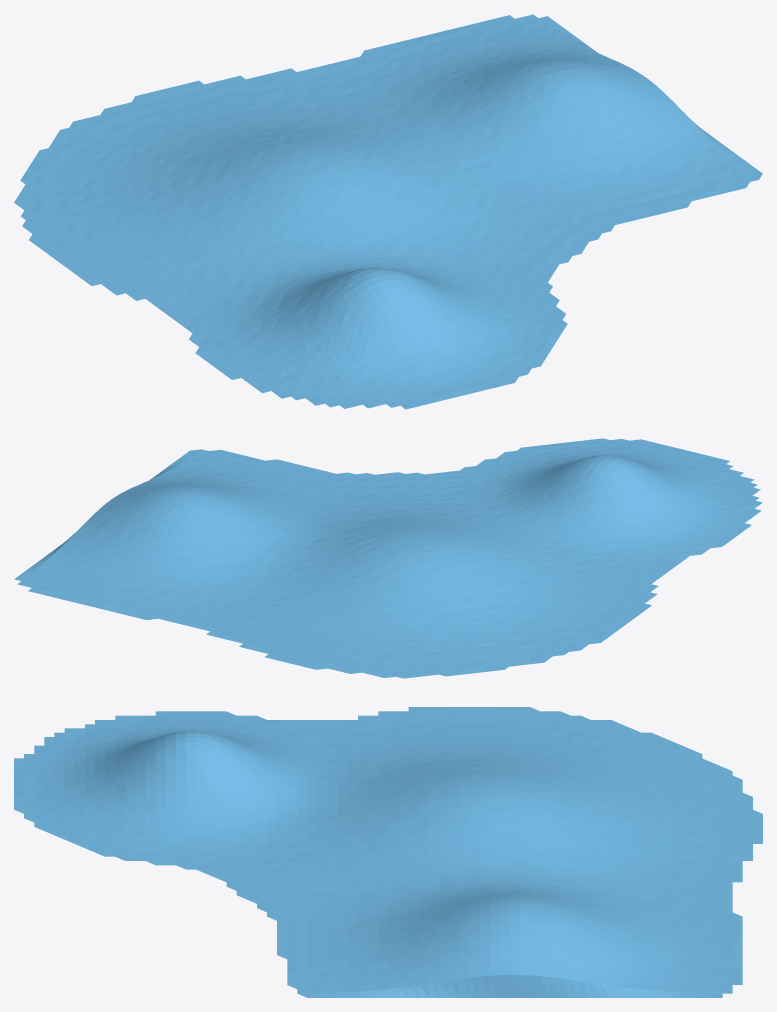
The model's file is mountains_terrain_without.dae.
The picture shows the model from 3 angles, top to bottom: view 1: azimuth 30°, elevation 25°; view 2: azimuth 150°, elevation 25°; view 3: azimuth 270°, elevation 25°; orthographic projection. The views are drawn at different scales.
Parts seen in each view (by area): view 1: ImageToStl.com_height_map_terrain; view 2: ImageToStl.com_height_map_terrain; view 3: ImageToStl.com_height_map_terrain.
Part boxes in pixels (box(x1,y1,x2,y2)): ImageToStl.com_height_map_terrain: box(14, 14, 762, 409); ImageToStl.com_height_map_terrain: box(14, 438, 762, 678); ImageToStl.com_height_map_terrain: box(14, 707, 762, 997).
Bounding box in the file's own units: 18.13 × 19.73 × 1.48.
